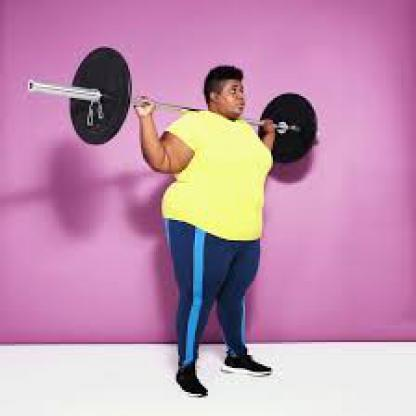barbell: (27, 44, 322, 167)
